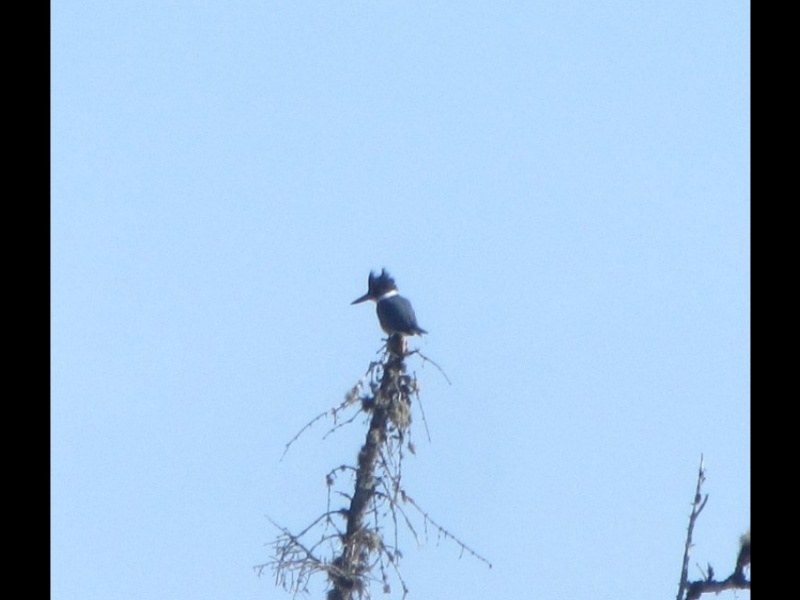kingfisher: (348, 266, 426, 344)
